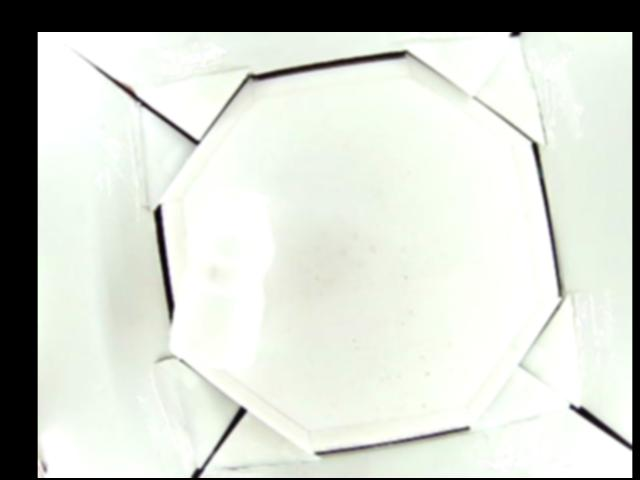Bottle: (166, 185, 270, 368)
